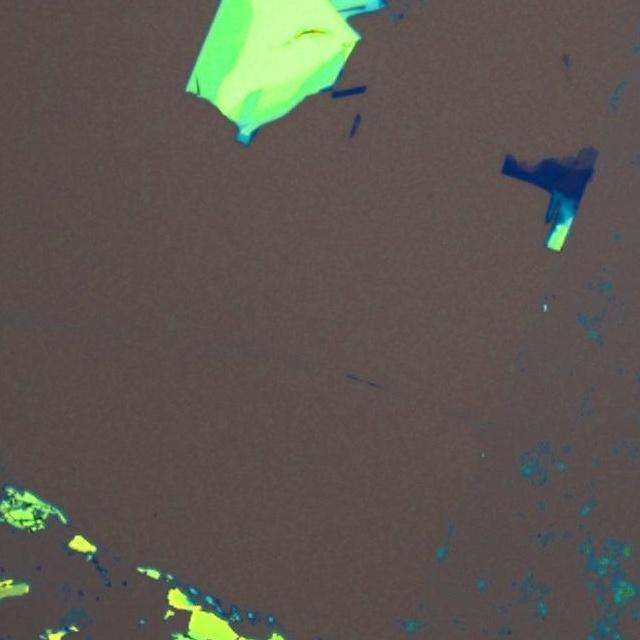monolayer-eWW4: (558, 147, 596, 170), (518, 158, 534, 172)
